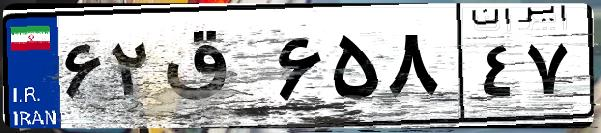2: (110, 28, 158, 98)
4: (475, 38, 525, 113)
5: (330, 28, 385, 110)
6: (270, 28, 330, 110), (57, 26, 110, 100)
7: (525, 38, 570, 115)
8: (385, 28, 445, 110)
ق: (158, 20, 270, 120)
